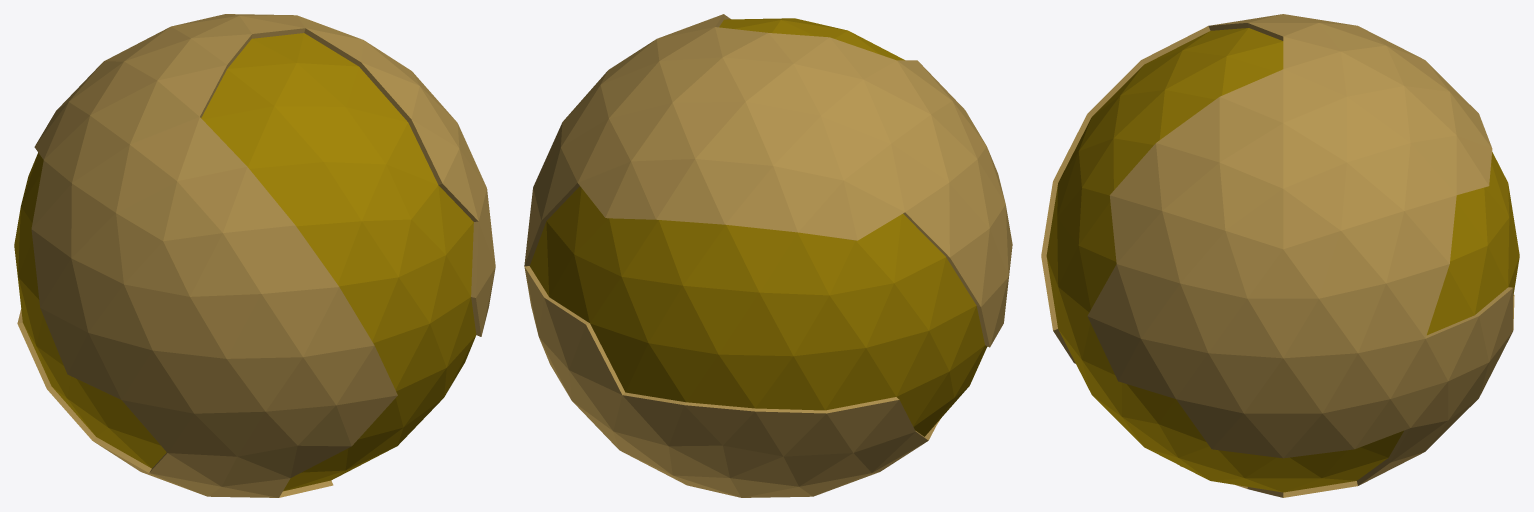
Rendered from titan.glb.
3 views of the same model, side by side, from view 1: azimuth 30°, elevation 25°; view 2: azimuth 150°, elevation 25°; view 3: azimuth 270°, elevation 25° (orthographic).
Parts seen in each view (by area): view 1: Icosphere; view 2: Icosphere; view 3: Icosphere.
Part boxes in pixels (box(x1,y1,x2,y2)): Icosphere: box(14, 14, 495, 497); Icosphere: box(524, 14, 1012, 497); Icosphere: box(1041, 14, 1519, 497).
Size of the model in its own units: 0.5148 by 0.5148 by 0.509.
